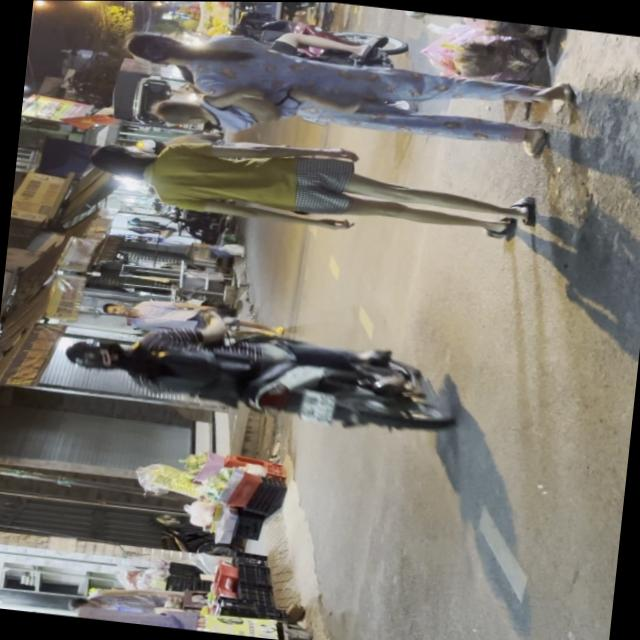helmet: (60, 337, 125, 376)
licenseplate: (53, 306, 460, 443)
nohelmet: (296, 390, 332, 425)
